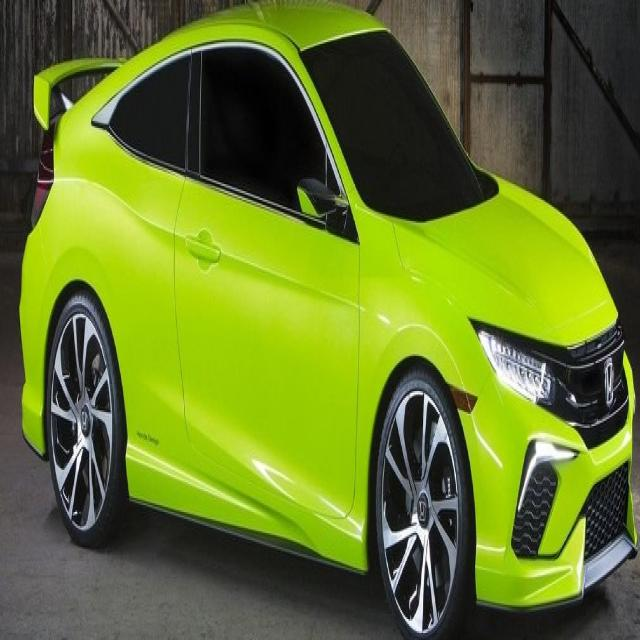green: (20, 0, 636, 640)
